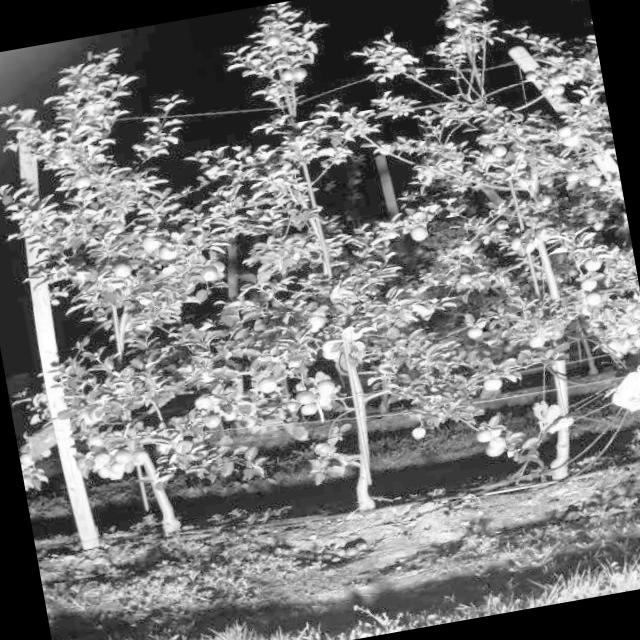Tree: (148, 1, 442, 530), (393, 11, 623, 494), (30, 46, 226, 540)
